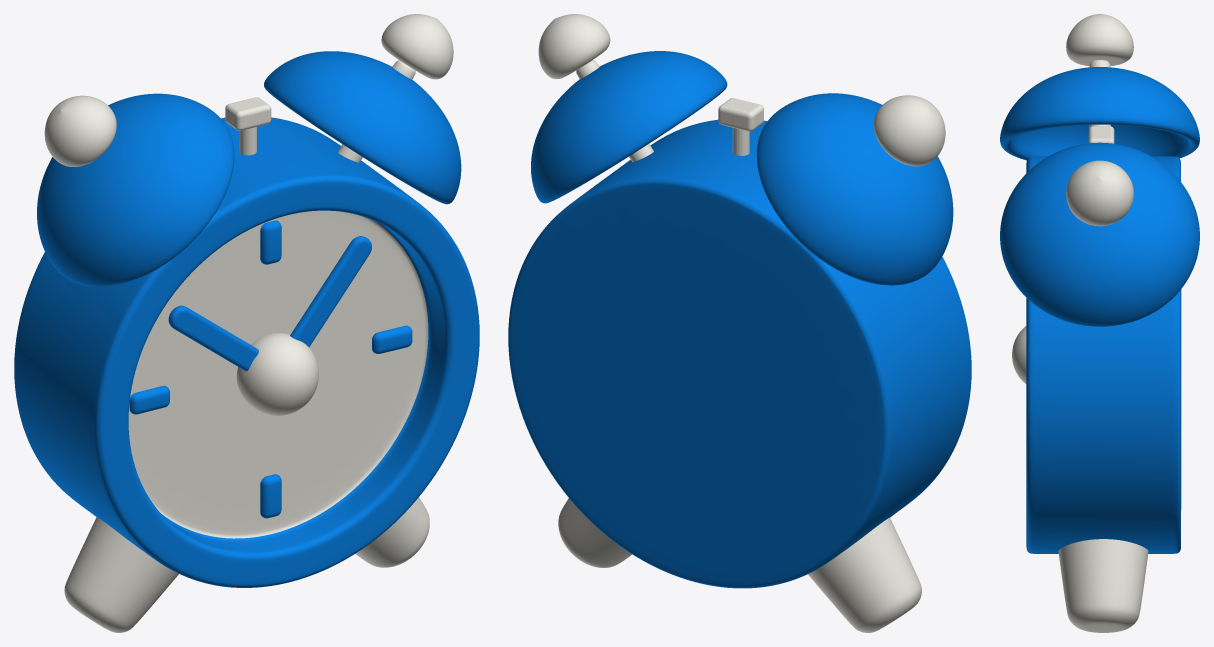
Rendered from CLOCK.fbx.
3 views of the same model, side by side, from view 1: azimuth 30°, elevation 25°; view 2: azimuth 150°, elevation 25°; view 3: azimuth 270°, elevation 25° (orthographic). The views are drawn at different scales.
Visible parts, largest first — view 1: Cylinder, Sphere, Cylinder.001, Cylinder.002, Sphere.001, Plane.002, Plane.001, Cube, Cube.001, Cube.003, Cube.002, Cube.004; view 2: Cylinder, Sphere, Cylinder.001, Cylinder.002, Cube; view 3: Sphere, Cylinder, Cylinder.001, Cylinder.002, Sphere.001, Cube.
Part boxes in pixels (bbox=[...]): Cylinder: bbox=[14, 117, 479, 587]; Sphere: bbox=[37, 51, 461, 286]; Cylinder.001: bbox=[64, 497, 429, 632]; Cylinder.002: bbox=[44, 14, 453, 166]; Sphere.001: bbox=[236, 332, 318, 415]; Plane.002: bbox=[290, 236, 371, 347]; Plane.001: bbox=[168, 305, 258, 371]; Cube: bbox=[225, 97, 271, 130]; Cube.001: bbox=[260, 220, 281, 264]; Cube.003: bbox=[260, 474, 281, 518]; Cube.002: bbox=[372, 325, 412, 353]; Cube.004: bbox=[129, 385, 169, 414]; Cylinder: bbox=[508, 119, 971, 588]; Sphere: bbox=[531, 51, 953, 285]; Cylinder.001: bbox=[558, 498, 921, 632]; Cylinder.002: bbox=[538, 14, 945, 166]; Cube: bbox=[718, 98, 763, 131]; Sphere: bbox=[1000, 67, 1199, 326]; Cylinder: bbox=[1026, 156, 1181, 553]; Cylinder.001: bbox=[1058, 539, 1148, 632]; Cylinder.002: bbox=[1066, 14, 1133, 226]; Sphere.001: bbox=[1012, 326, 1026, 383]; Cube: bbox=[1088, 126, 1114, 143].
Bounding box in the file's own units: 206 × 266 × 99.84.
